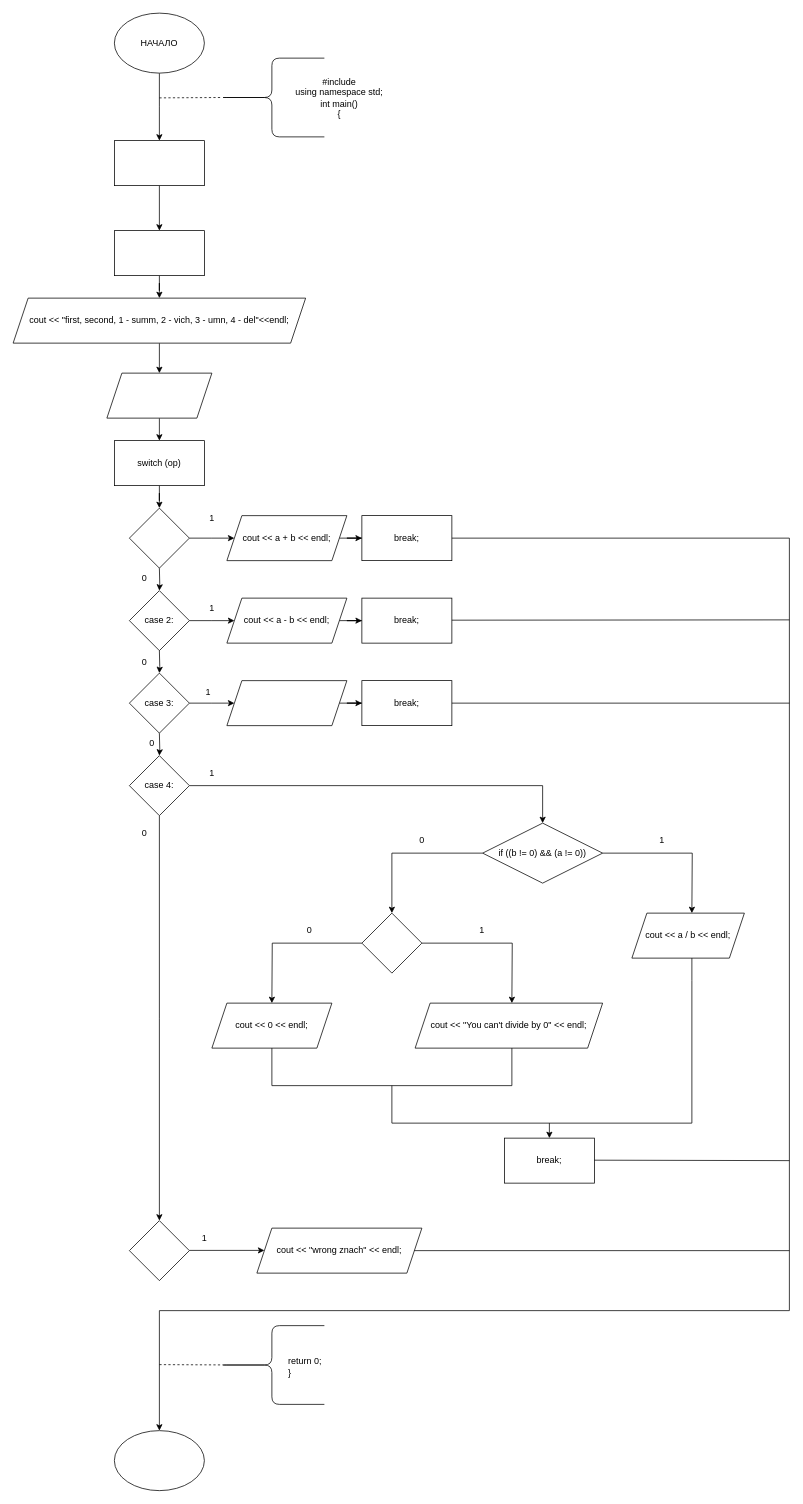
Some shapes in this 803 by 1504 pixel diagram are drawn without their labels. The centre of each missing label's shape, as x and y in pixels:
"case 1:" goes at (159,537).
"cin >> a >> b >> op;" goes at (159,395).
"cout << a * b << endl;" goes at (286,703).
"default:" goes at (159,1250).
"float a,b;" goes at (159,163).
"if (b == 0)" goes at (391,942).
"int op;" goes at (159,253).
"КОНЕЦ" goes at (159,1460).
